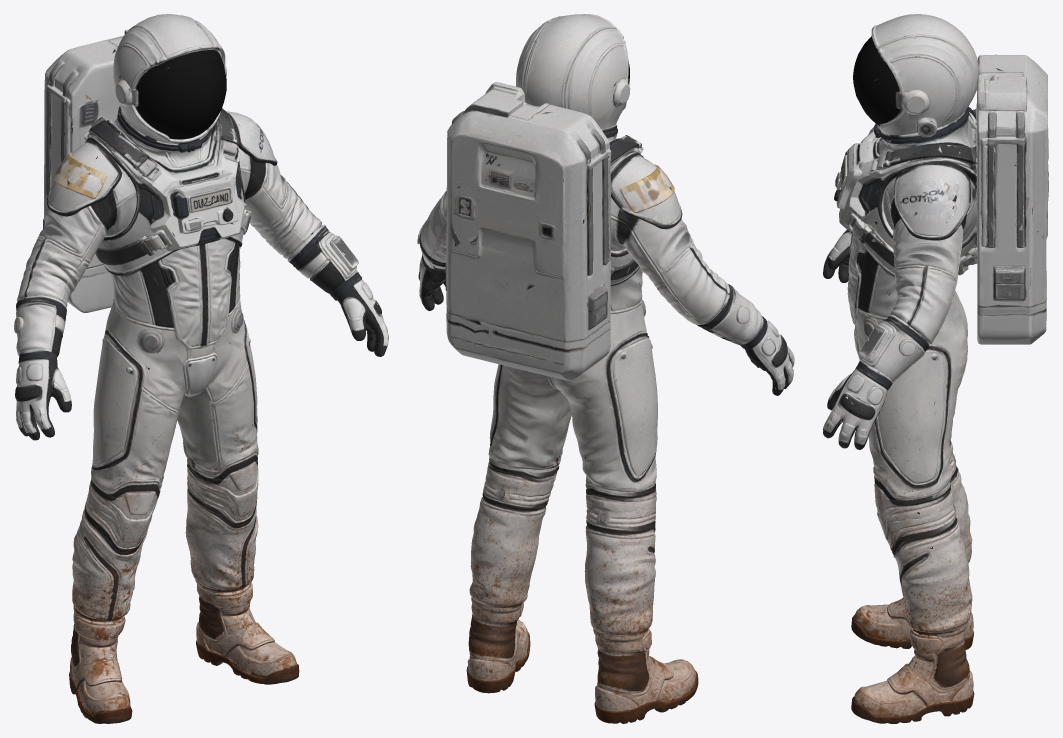
File: astronaut.glb
The picture shows the model from 3 angles, left to right: view 1: azimuth 30°, elevation 25°; view 2: azimuth 150°, elevation 25°; view 3: azimuth 270°, elevation 25°; orthographic projection. The views are drawn at different scales.
Size of the model in its own units: 1.09 by 1.9 by 0.593.
Materials: 1 (1 with a texture image).
